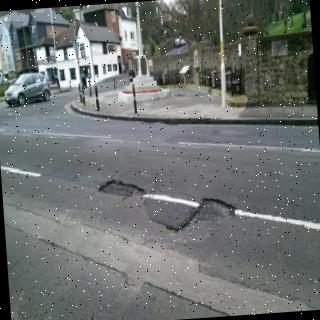pothole: (166, 198, 236, 231), (98, 179, 147, 201)
